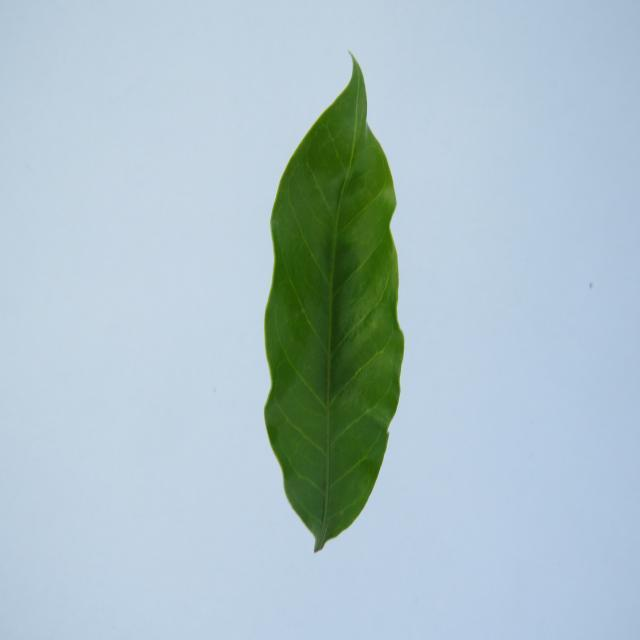DeficienciaNutricional-Calcio: (265, 57, 404, 552)
